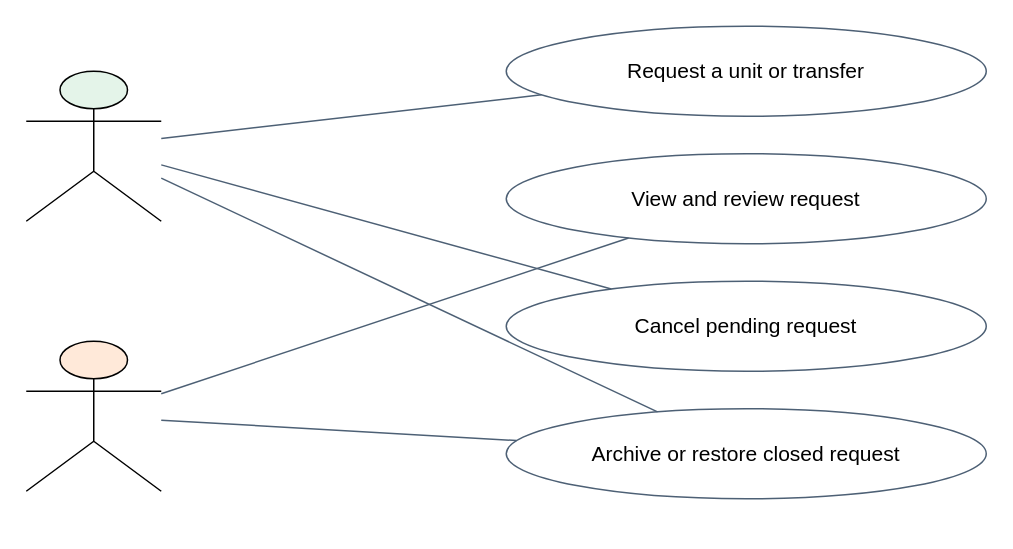
Some shapes in this 1013 by 549 pixel diagram are drawn without their labels. Here are the shapes that lost their labels. From the top down, the centre of each, then its label:
At (93,145): "Tenant".
At (93,415): "Admin".
